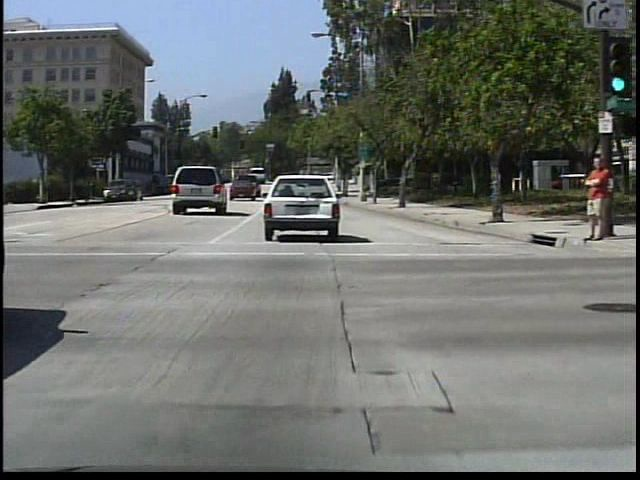person: (577, 154, 610, 246)
